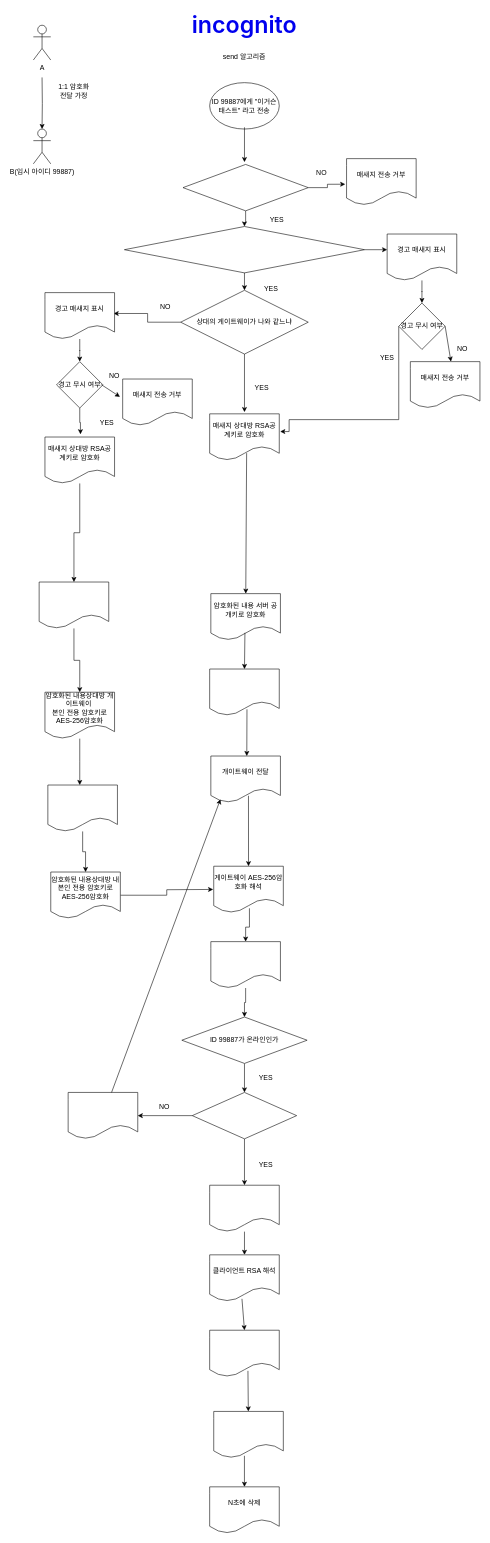
The diagram is 490 pixels wide and 1543 high, and some of its shapes have lost their labels. The centre of each missing label's shape, as x and y in pixels:
"ID 99887이 현재 게이트웨이에 물려있나" belongs at pixel 244 1115.
"RSA 해석" belongs at pixel 245 964.
"게이트웨이와 상대방의 게이트웨이가 무결성 인증이 되어있는가" belongs at pixel 244 249.
"매새지 RAM에 올림" belongs at pixel 244 1353.
"상대방 개이트웨이에 인터넷으로 정보전달" belongs at pixel 103 1115.
"상대방의 기기가 켜저있는가" belongs at pixel 245 187.
"암호화된 내용 내 개이트웨이 공개키로 암호화" belongs at pixel 82 807.
"암호화된 내용 본인 전용 암호키로 AES-256암호화" belongs at pixel 244 691.
"암호화된 내용 상대방 개이트웨이 공개키로 암호화" belongs at pixel 74 604.
"표시" belongs at pixel 248 1434.
"해당 ID 가진 클라이언트에 매새지 전달" belongs at pixel 244 1208.
